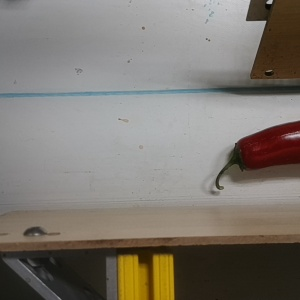Cut Point: (225, 137, 257, 172)
